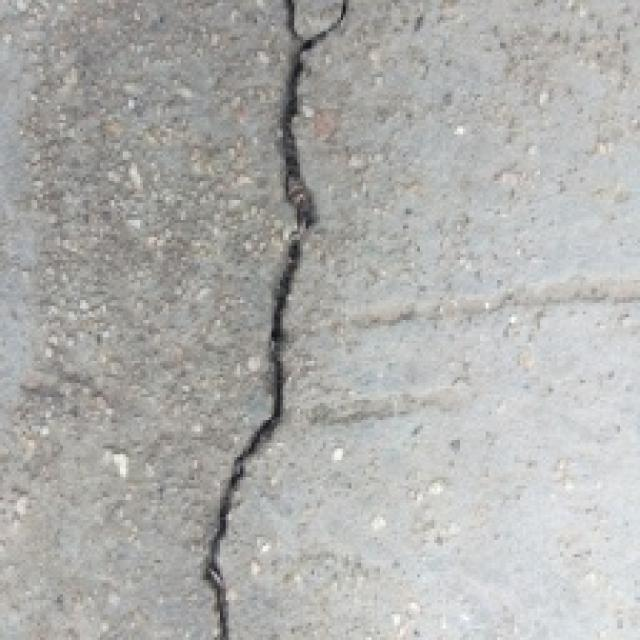crack: (182, 0, 360, 640)
